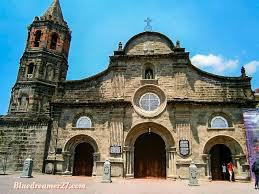barasoain_church_malolos_bulacan: (1, 1, 258, 181)
